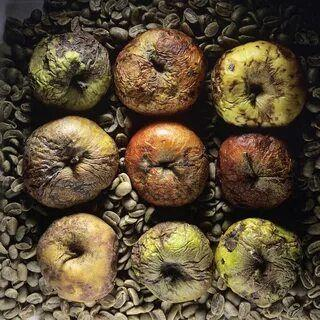Apple: (26, 118, 119, 207), (212, 42, 304, 128), (116, 29, 207, 114), (216, 218, 300, 306), (40, 215, 119, 302), (124, 125, 204, 207), (136, 222, 216, 302), (30, 35, 110, 113), (219, 136, 291, 212)
